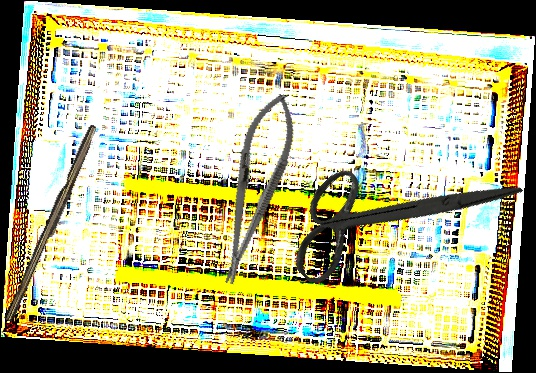Iris Scissors: (267, 87, 523, 343)
Needle Holder: (203, 87, 307, 291)
Scalpel Handle: (3, 122, 102, 325)
